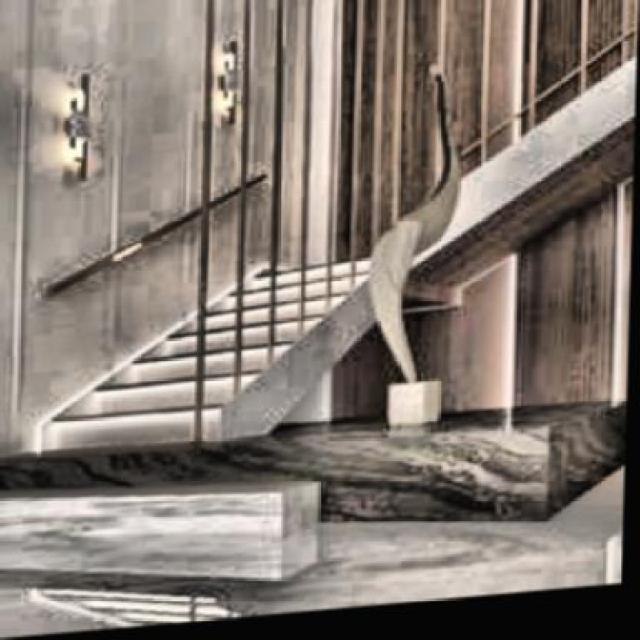stair: (46, 242, 372, 448)
